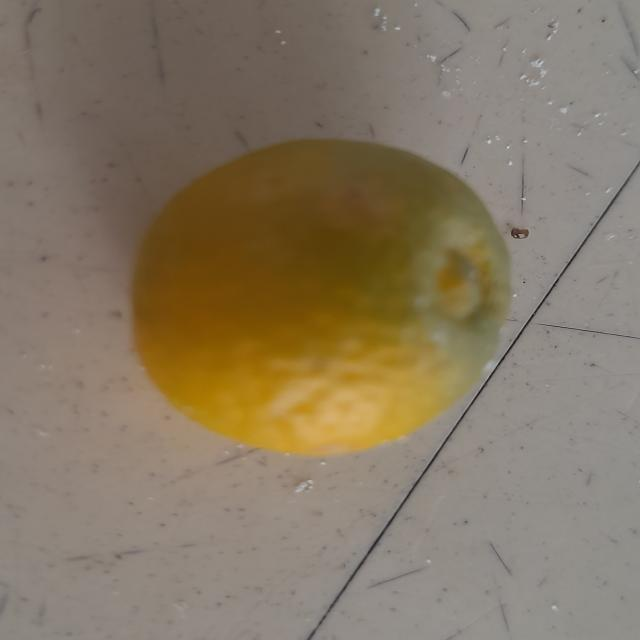greening: (126, 134, 531, 478)
